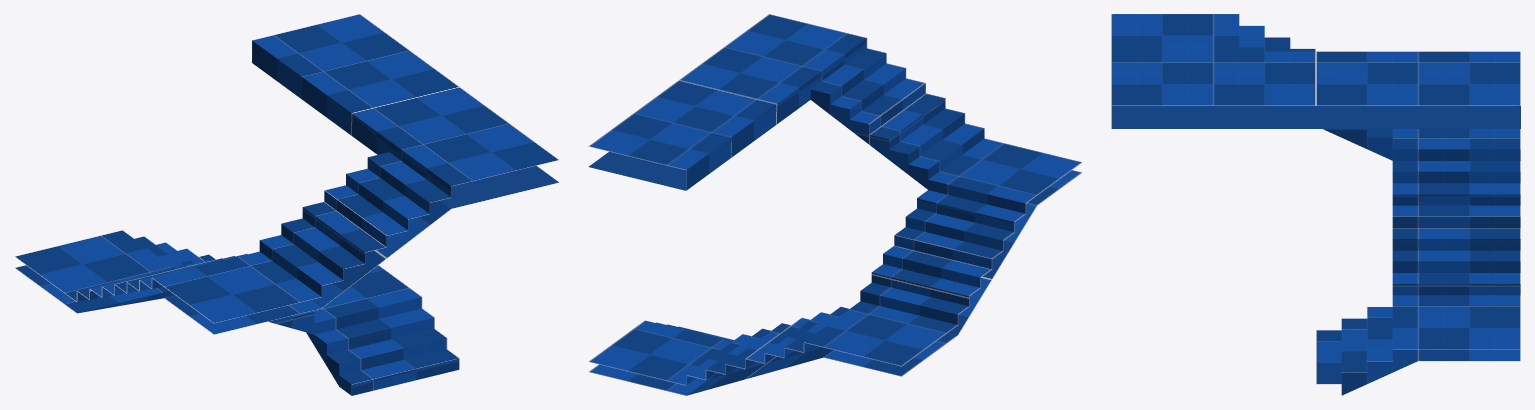
The model's file is Campaign1_stairs.glb.
3 renders of one model, left to right at view 1: azimuth 30°, elevation 25°; view 2: azimuth 150°, elevation 25°; view 3: azimuth 270°, elevation 25°, orthographic. The views are drawn at different scales.
Visible parts, largest first — view 1: Stairs; view 2: Stairs; view 3: Stairs.
Boxes of the visible parts, bbox=[...] form: Stairs: bbox=[14, 14, 558, 395]; Stairs: bbox=[588, 14, 1082, 395]; Stairs: bbox=[1111, 14, 1520, 395].
Size of what is drawn, in the model's own units: 8 by 6.25 by 8.
1 material, 1 textured.
